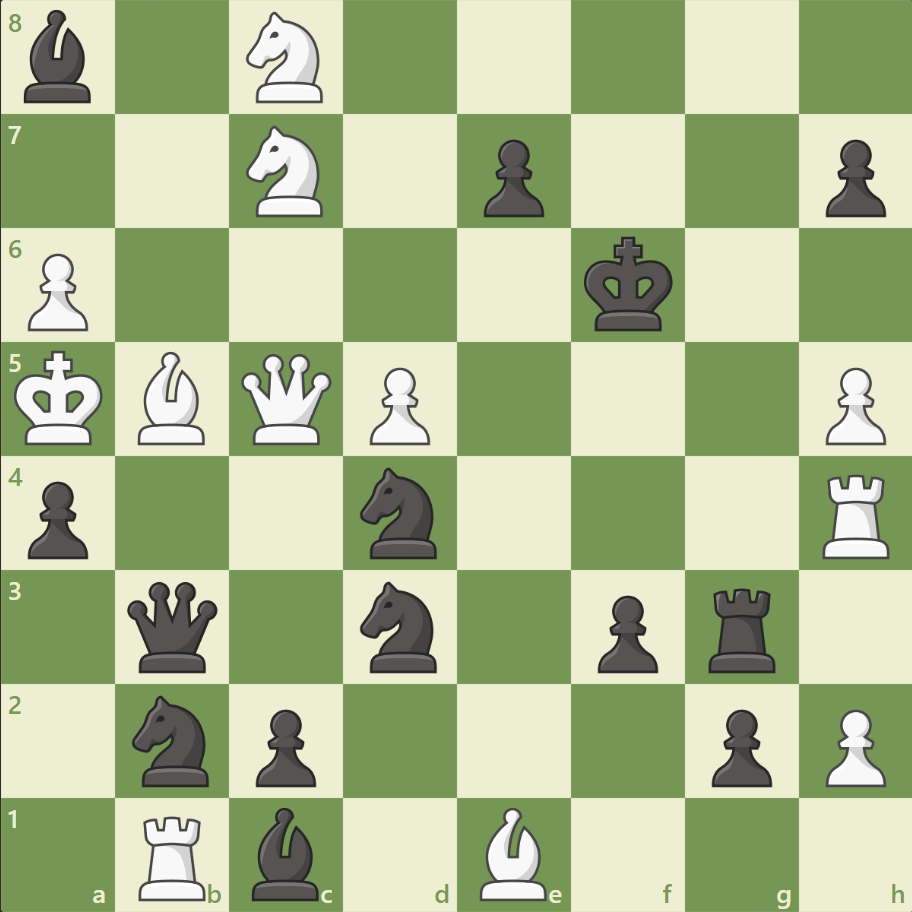B: (471, 801, 555, 904), (131, 347, 215, 449)
K: (11, 344, 111, 452)
N: (238, 7, 335, 110), (238, 121, 335, 223)
P: (20, 246, 95, 337), (361, 359, 435, 450), (815, 359, 889, 450), (815, 700, 889, 791)
Q: (237, 349, 336, 449)
R: (814, 466, 897, 563), (133, 806, 215, 904)
b: (17, 6, 101, 109), (244, 801, 328, 904)
k: (579, 231, 679, 339)
n: (351, 461, 449, 564), (124, 688, 222, 791), (351, 575, 449, 677)
p: (474, 132, 549, 223), (20, 473, 95, 564), (247, 700, 322, 791), (701, 700, 776, 791), (815, 132, 889, 223), (588, 586, 662, 677)
q: (124, 576, 223, 676)
r: (700, 579, 783, 676)
